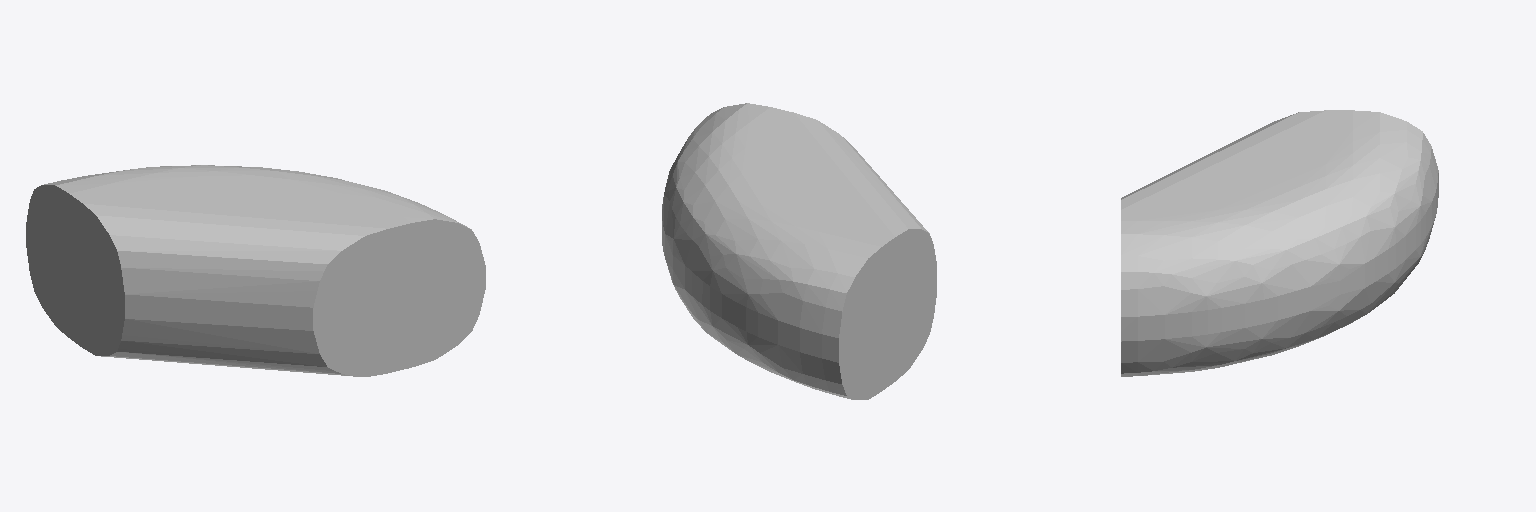
The model's file is wagon_V2_top-handle-original v1_collision_5.obj.
The picture shows the model from 3 angles: view 1: azimuth 30°, elevation 25°; view 2: azimuth 150°, elevation 25°; view 3: azimuth 270°, elevation 25°; orthographic projection.
Size of the model in its own units: 5.34 by 2.45 by 4.88.